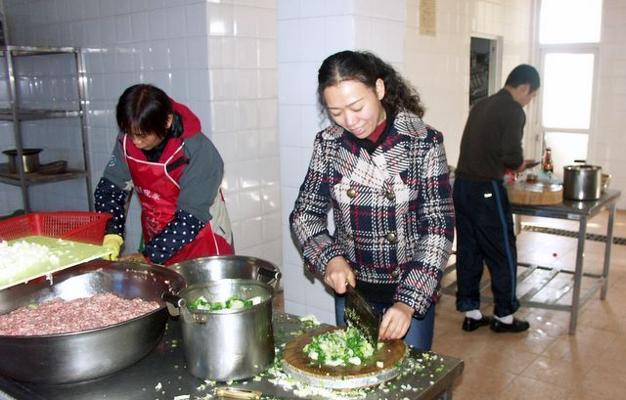person: (289, 50, 457, 359)
